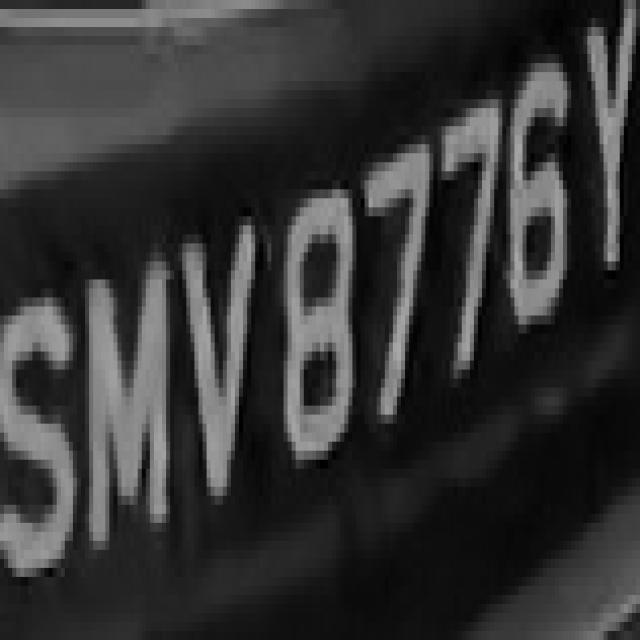6: (490, 63, 587, 325)
7: (352, 126, 442, 442), (426, 72, 506, 397)
8: (276, 144, 360, 487)
M: (77, 243, 174, 550)
S: (8, 261, 73, 586)
V: (174, 180, 259, 532)
Y: (579, 18, 640, 307)
